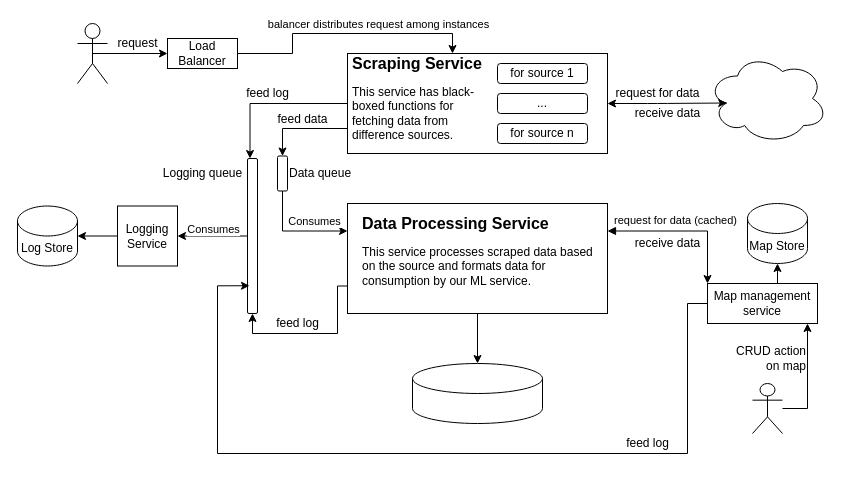
This 845x479 diagram has some shape labels left out. The shapes that lost their labels are listed below. From the top down, each one's centre as x and y in pixels, then its label:
(92,53): Trigger
(767,98): External sources
(477,393): Data Store
(767,408): Admin
